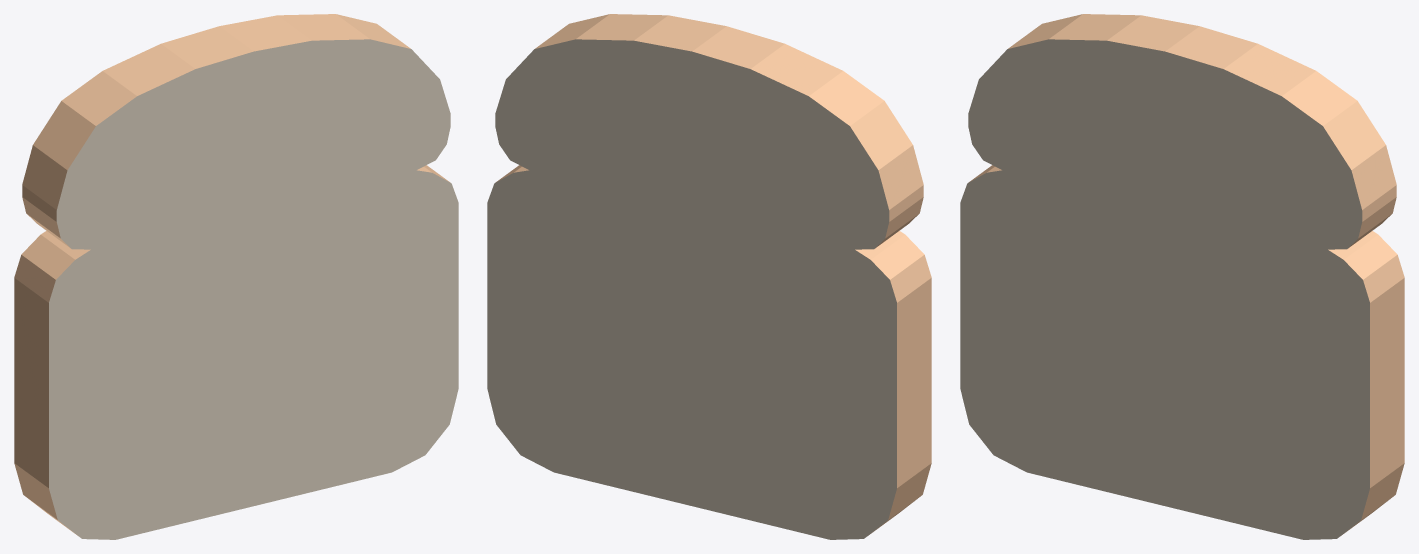
Rendered from Slice Of Bread.fbx.
The picture shows the model from 3 angles, left to right: view 1: azimuth 30°, elevation 25°; view 2: azimuth 150°, elevation 25°; view 3: azimuth 330°, elevation 25°; orthographic projection.
Parts seen in each view (by area): view 1: Slice Of Bread, Slice Of Bread Crust; view 2: Slice Of Bread, Slice Of Bread Crust; view 3: Slice Of Bread, Slice Of Bread Crust.
Part boxes in pixels (box(x1,y1,x2,y2)): Slice Of Bread: box(49, 39, 458, 539); Slice Of Bread Crust: box(14, 14, 450, 535); Slice Of Bread: box(487, 39, 896, 539); Slice Of Bread Crust: box(495, 14, 931, 535); Slice Of Bread: box(960, 39, 1369, 539); Slice Of Bread Crust: box(968, 14, 1404, 535).
Bounding box in the file's own units: 0.127 × 0.1346 × 0.0186.
